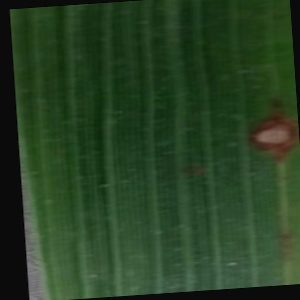Brown_Spot: (220, 92, 300, 186)
